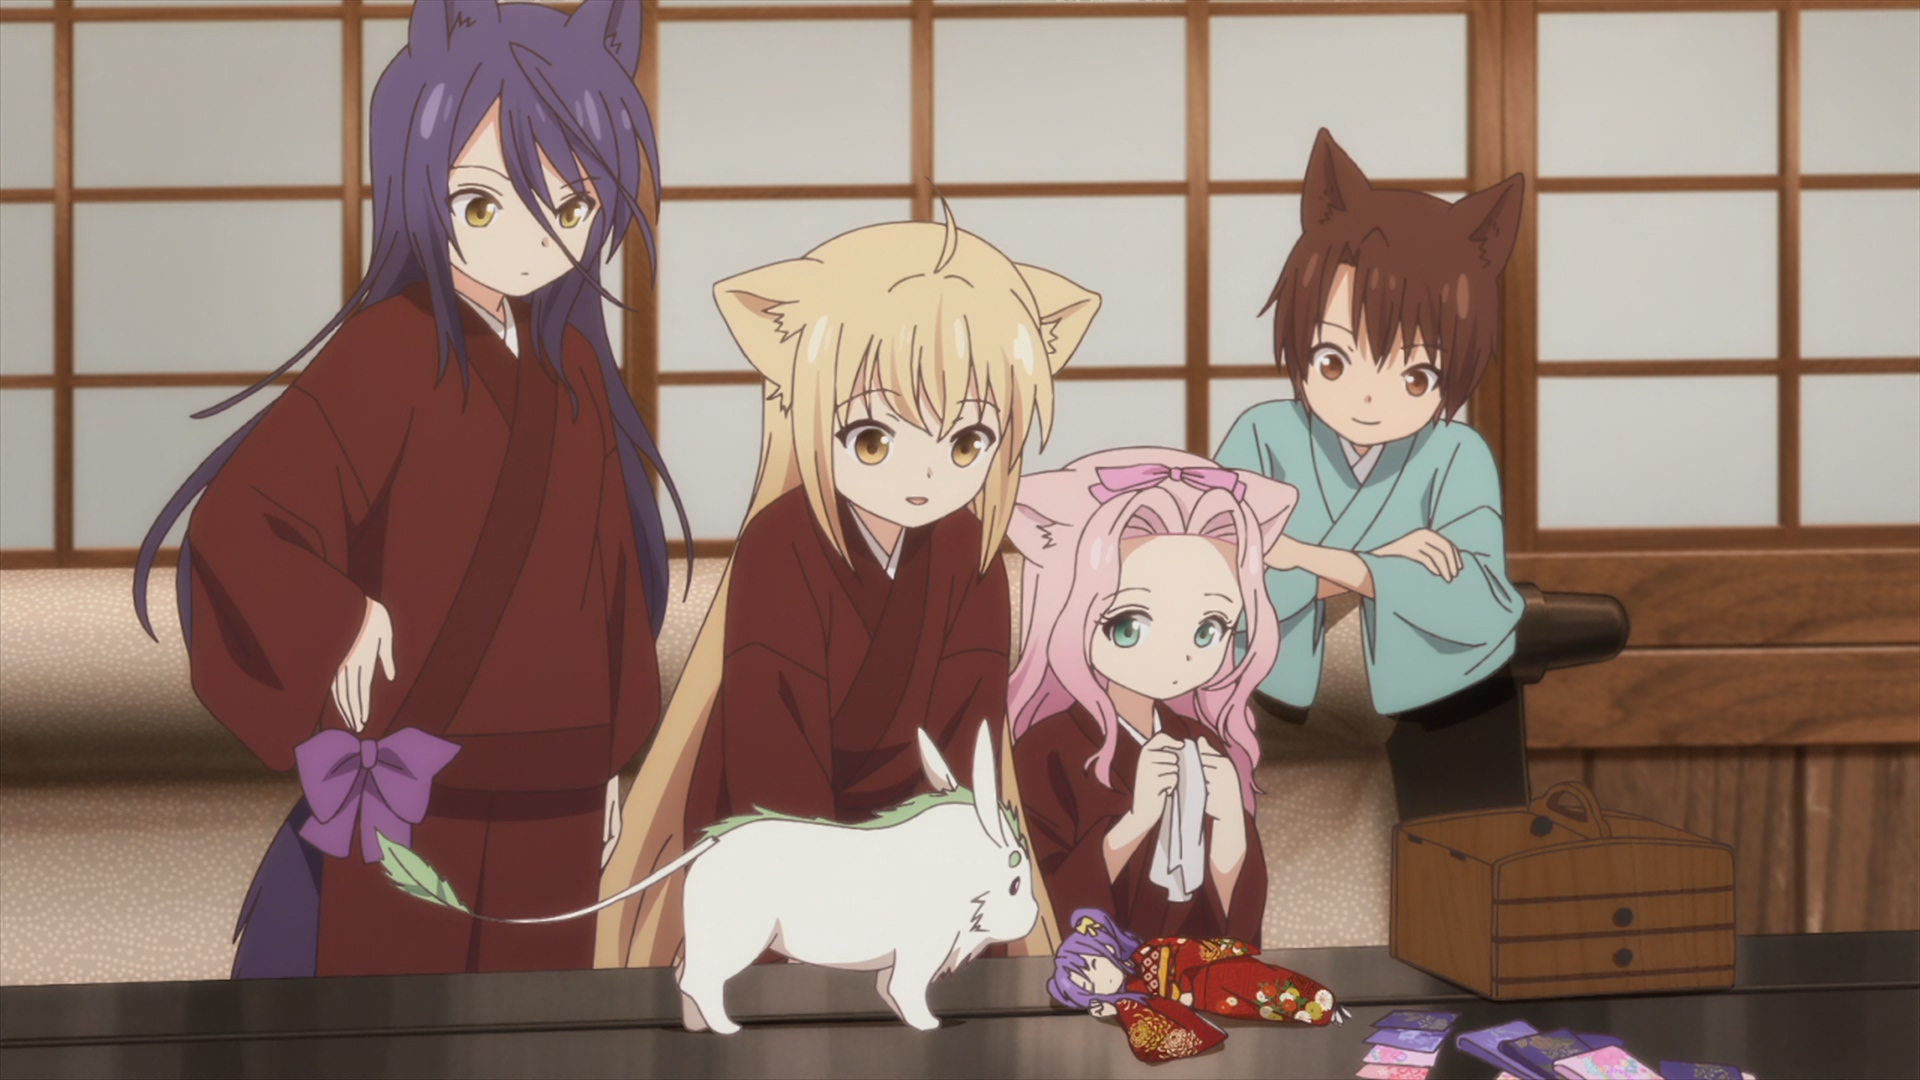枣: (1212, 128, 1526, 712)
柚: (592, 191, 1104, 969)
瓜之介: (375, 720, 1040, 1035)
皋: (132, 1, 698, 976)
莲: (1007, 447, 1300, 948)
阿菊: (1044, 909, 1352, 1063)
